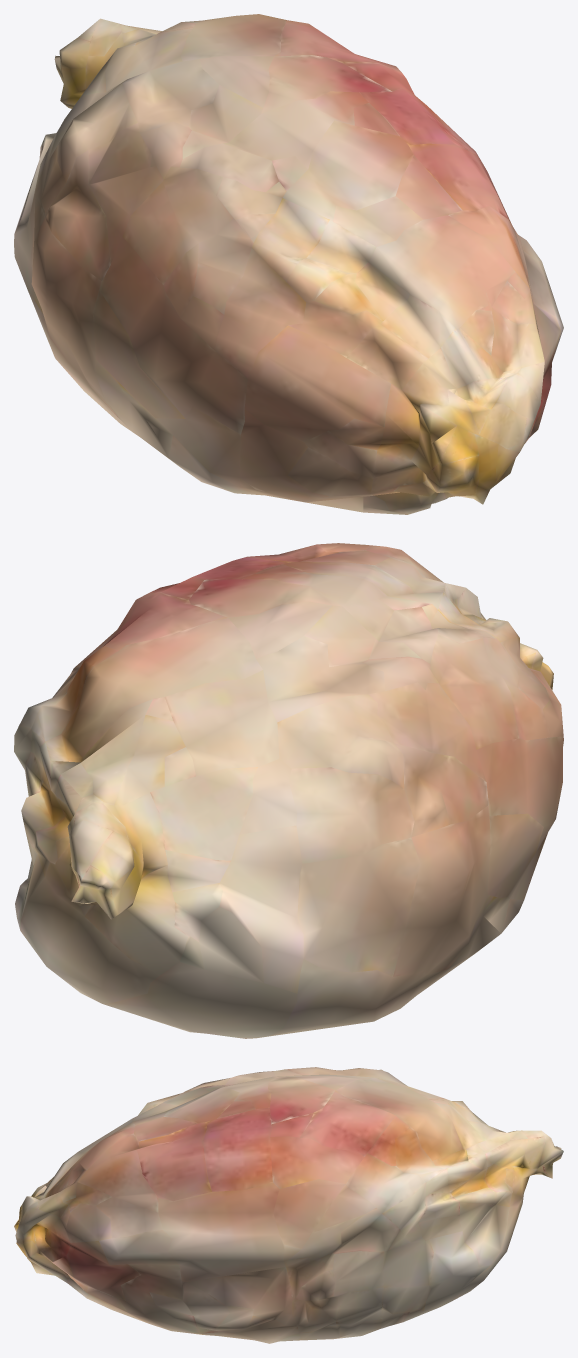
The model's file is chicken-breast.glb.
The picture shows the model from 3 angles, top to bottom: view 1: azimuth 30°, elevation 25°; view 2: azimuth 150°, elevation 25°; view 3: azimuth 270°, elevation 25°; orthographic projection. The views are drawn at different scales.
Size of the model in its own units: 1.02 by 0.9156 by 1.89.
Materials: 1 (1 with a texture image).
